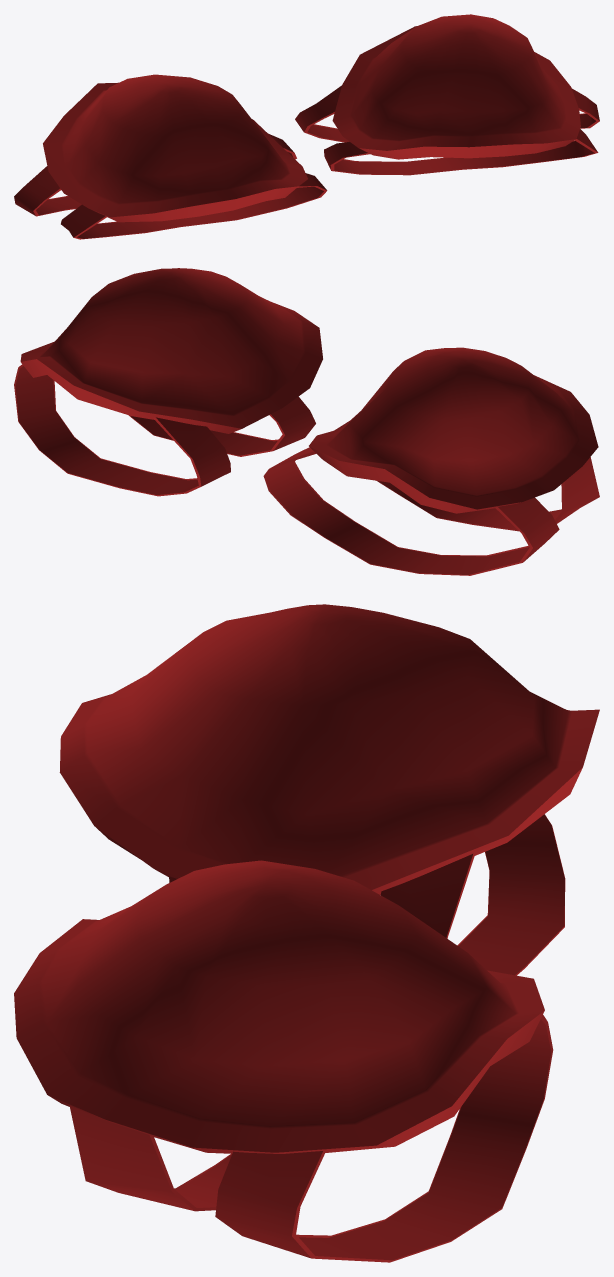
File: W_SET_PAD.FBX
3 views of the same model, one above another, from view 1: azimuth 30°, elevation 25°; view 2: azimuth 150°, elevation 25°; view 3: azimuth 270°, elevation 25° (orthographic). The views are drawn at different scales.
Parts seen in each view (by area): view 1: Object070; view 2: Object070; view 3: Object070.
Boxes of the visible parts, x1,y1,x2,y2 form: Object070: (14,14,599,239); Object070: (14,268,599,575); Object070: (14,604,599,1262).
Size of the model in its own units: 21.19 by 5.71 by 10.36.
